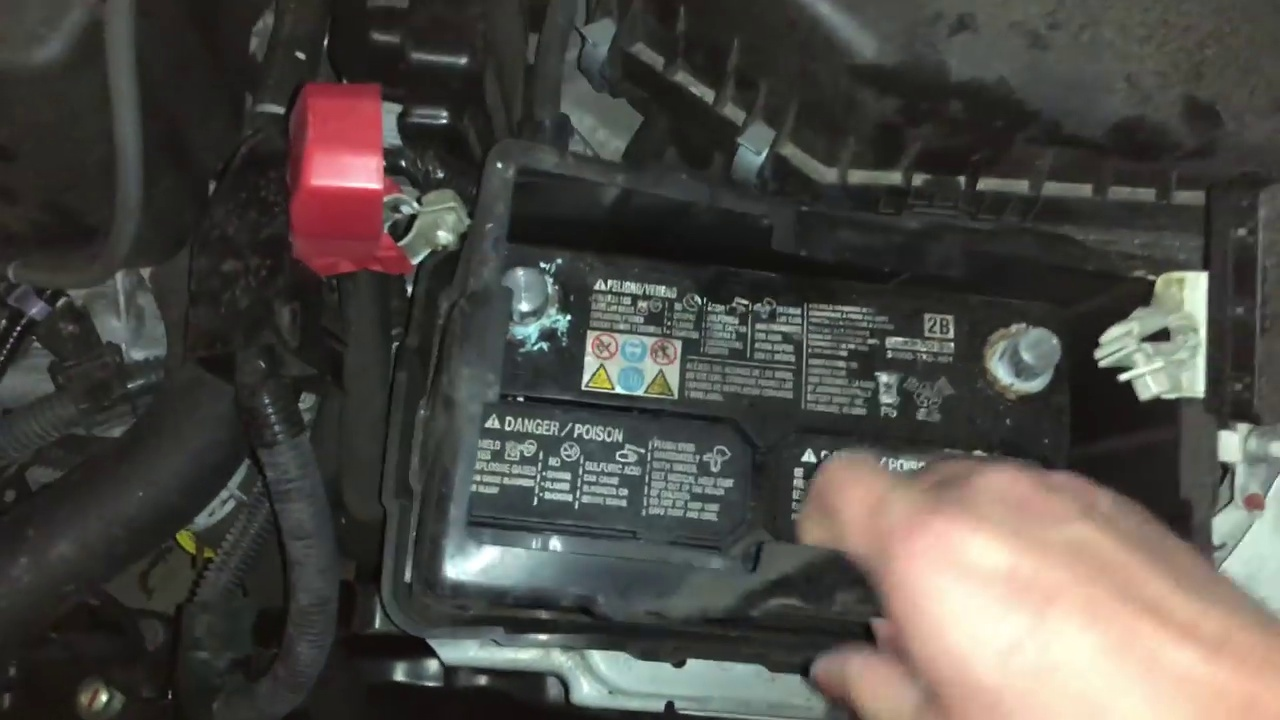battery: (445, 184, 1084, 645)
neg_disconnected: (981, 267, 1192, 440)
pos_disconnected: (320, 139, 564, 349)
